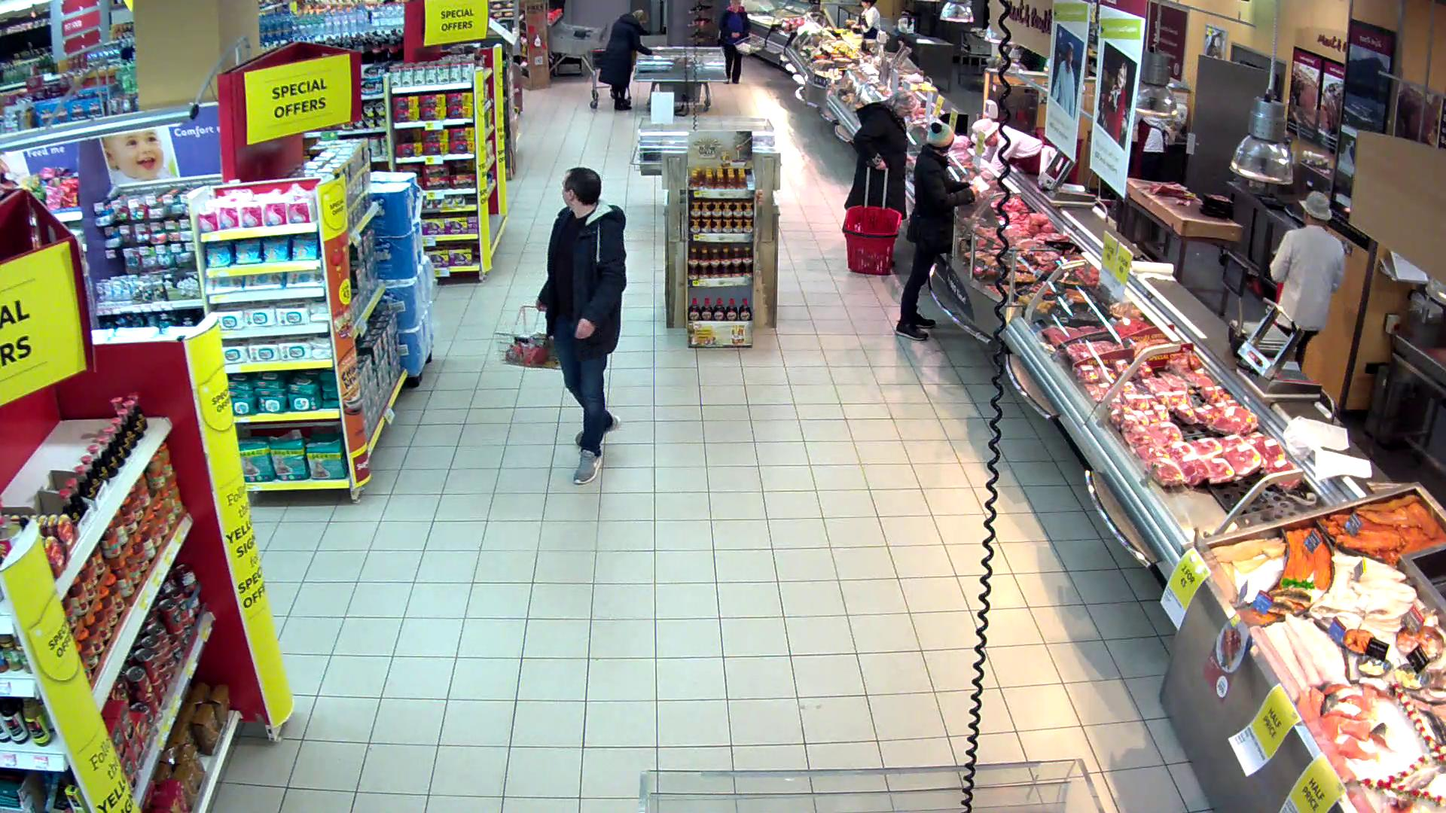filled-basket: (495, 301, 563, 370), (842, 205, 901, 276)
person: (535, 166, 628, 485), (844, 91, 915, 238)
person-with-filled-basket-trolly: (495, 166, 627, 484), (842, 90, 916, 275)
